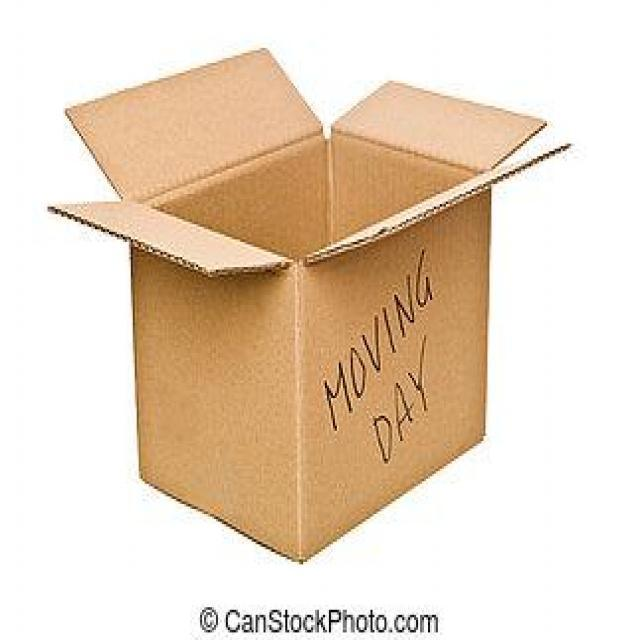box: (47, 54, 535, 570)
